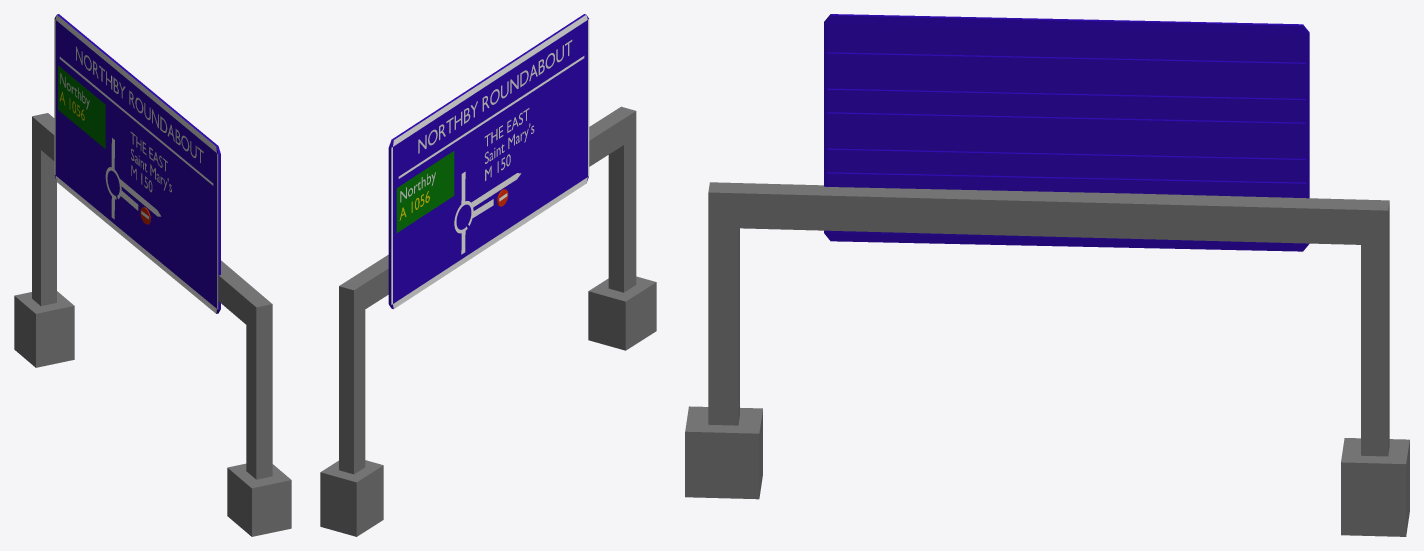
File: RoundaboutSignNorthbyRoundabout1.fbx
The picture shows the model from 3 angles, left to right: view 1: azimuth 30°, elevation 25°; view 2: azimuth 150°, elevation 25°; view 3: azimuth 270°, elevation 25°; orthographic projection. The views are drawn at different scales.
Visible parts, largest first — view 1: Cube.030, Cube.002, Plane, Text.002, Text.001, DashedLine; view 2: Cube.030, Cube.002, Plane, Text.002, Text.001, DashedLine; view 3: Cube.030, Cube.002.
Boxes of the visible parts, <box> form: Cube.030: <box>54,14,220,313</box>; Cube.002: <box>14,113,291,536</box>; Plane: <box>58,65,105,148</box>; Text.002: <box>76,46,203,162</box>; Text.001: <box>130,131,171,192</box>; DashedLine: <box>59,57,213,185</box>; Cube.030: <box>388,14,589,309</box>; Cube.002: <box>320,106,656,536</box>; Plane: <box>396,151,454,232</box>; Text.002: <box>418,40,572,153</box>; Text.001: <box>484,108,534,180</box>; DashedLine: <box>398,56,584,178</box>; Cube.030: <box>824,14,1309,251</box>; Cube.002: <box>685,182,1409,536</box>.
Size of the model in its own units: 173 by 895 by 1200.
